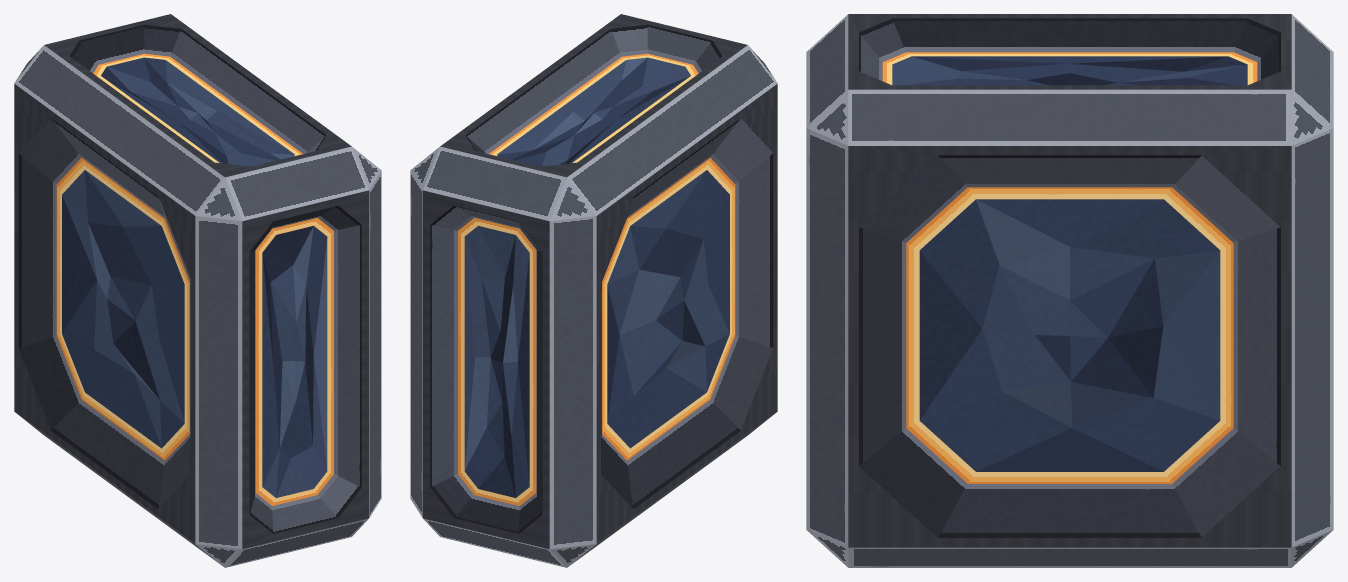
The model's file is marlit_slab.glb.
3 renders of one model, left to right at view 1: azimuth 30°, elevation 25°; view 2: azimuth 150°, elevation 25°; view 3: azimuth 270°, elevation 25°, orthographic. The views are drawn at different scales.
Parts seen in each view (by area): view 1: marlit_slab_body; view 2: marlit_slab_body; view 3: marlit_slab_body.
Part boxes in pixels (x1,y1,x2,y2): marlit_slab_body: [14, 14, 381, 567]; marlit_slab_body: [410, 14, 777, 567]; marlit_slab_body: [806, 14, 1333, 567].
Bounding box in the file's own units: 1 × 2 × 2.
Materials: 1 (1 with a texture image).
